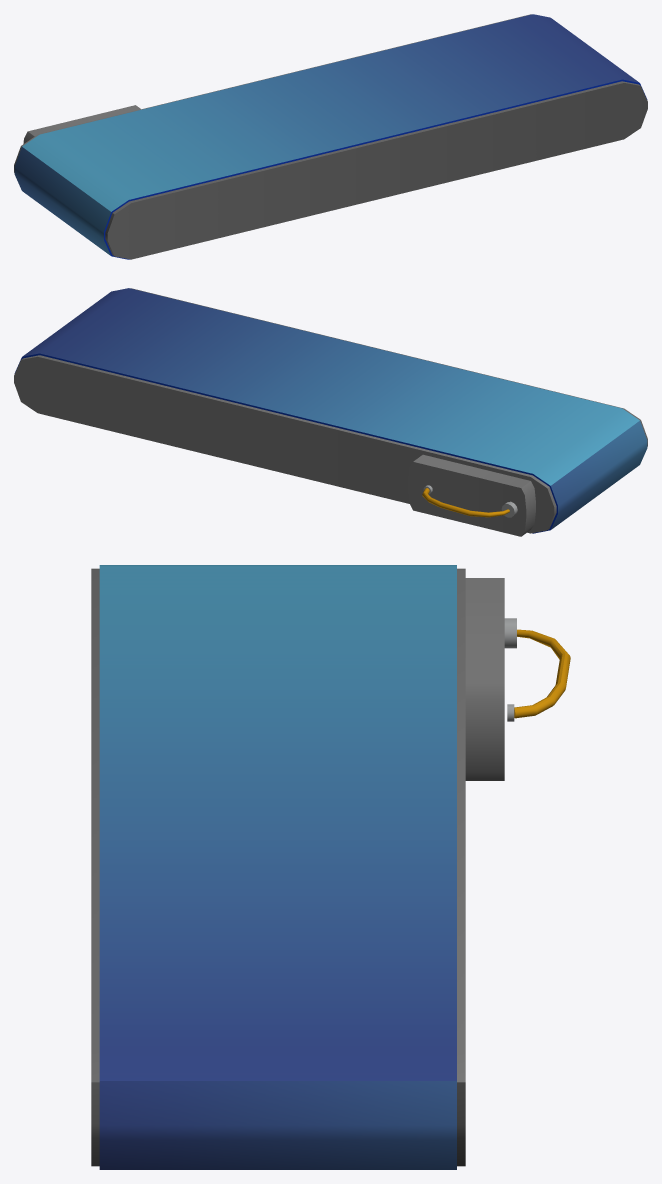
Rendered from Conveyor Belt.fbx.
3 views of the same model, one above another, from view 1: azimuth 30°, elevation 25°; view 2: azimuth 150°, elevation 25°; view 3: azimuth 270°, elevation 25° (orthographic). The views are drawn at different scales.
Parts seen in each view (by area): view 1: Conveyor Belt; view 2: Conveyor Belt; view 3: Conveyor Belt.
Part boxes in pixels (box(x1,y1,x2,y2)): Conveyor Belt: box(14, 14, 647, 259); Conveyor Belt: box(14, 288, 647, 536); Conveyor Belt: box(91, 565, 570, 1169).
Bounding box in the file's own units: 10.06 × 1.06 × 3.84.
Materials: 1 (1 with a texture image).
